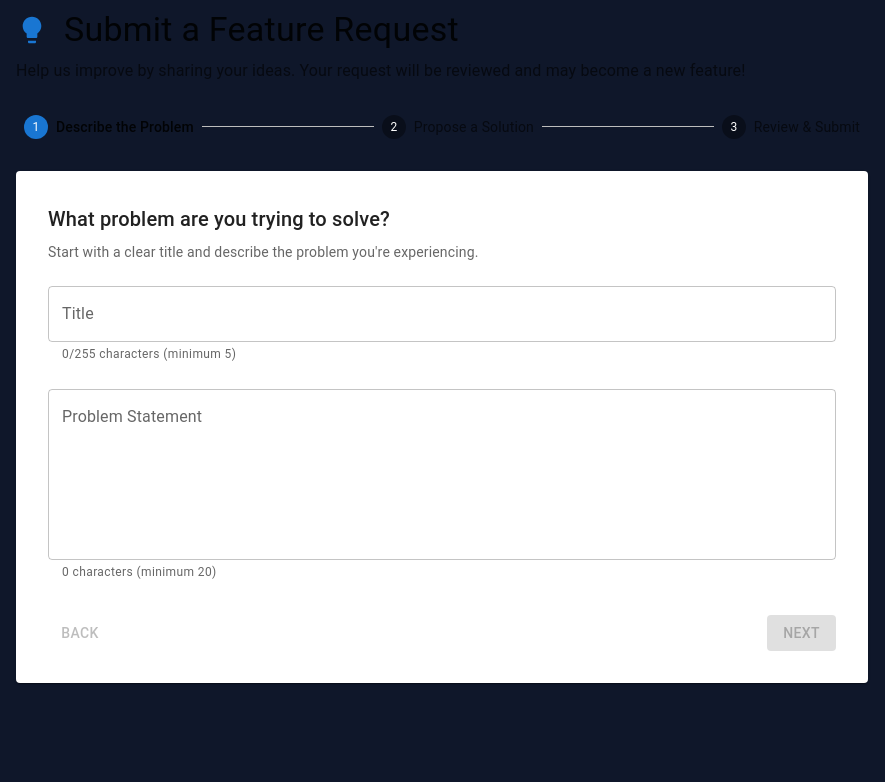
Test case: SubmitFeatureRequest › Step 3 - Review › shows review of entered data
This screenshot has width=885, height=782.
Type "Add dark mode support" into the field labelled "Title" at x=442, y=314, box left=48, top=286, right=836, bottom=342
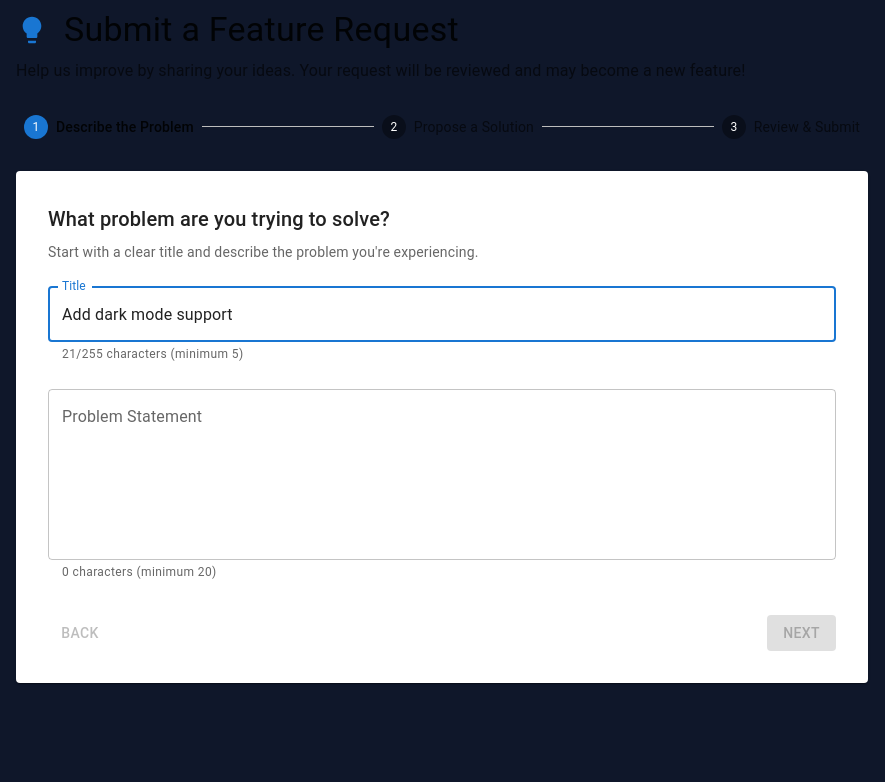
Type "Users are experiencing eye strain when using the application in low-light." into the text box labelled "Problem Statement" at x=442, y=474, box left=62, top=405, right=822, bottom=543
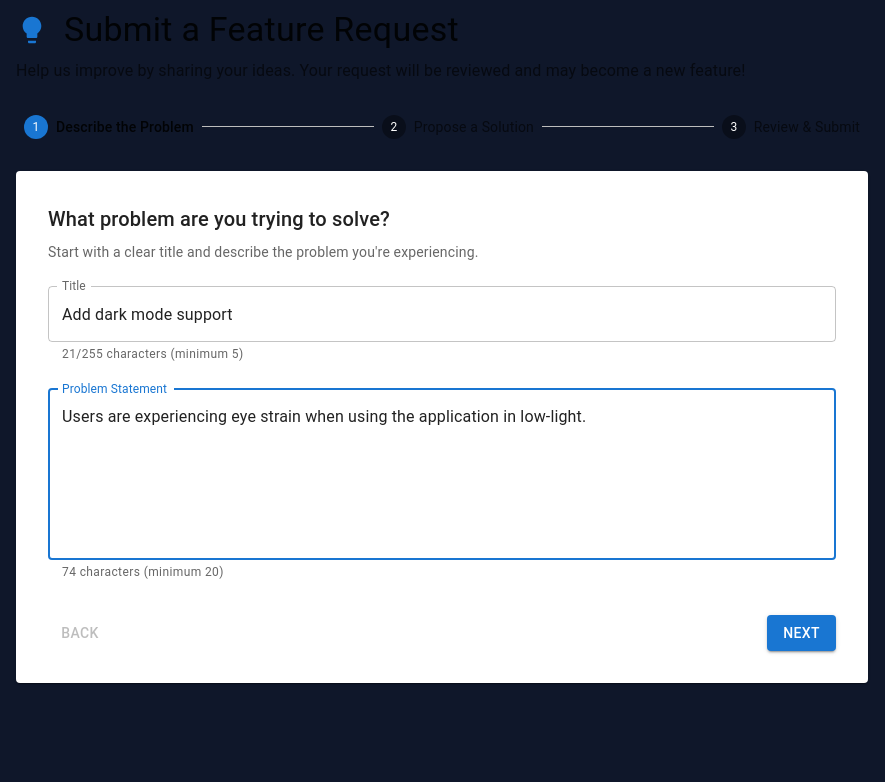
Click the button "Next" at x=802, y=633, box left=767, top=615, right=836, bottom=651
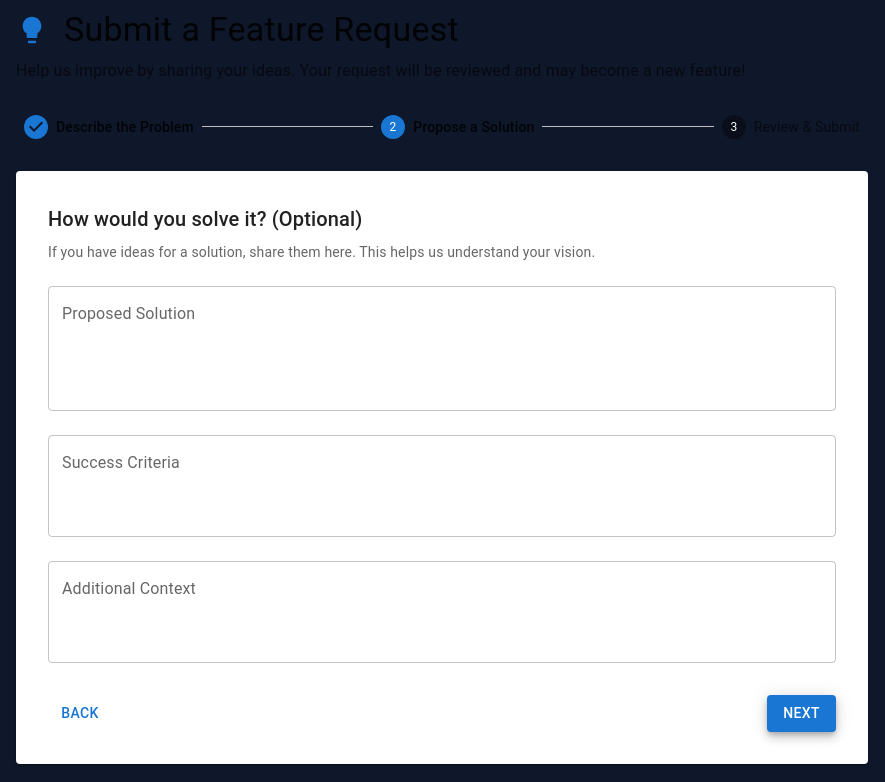
Type "Implement a theme toggle." into the text box labelled "Proposed Solution" at x=442, y=348, box left=62, top=302, right=822, bottom=394
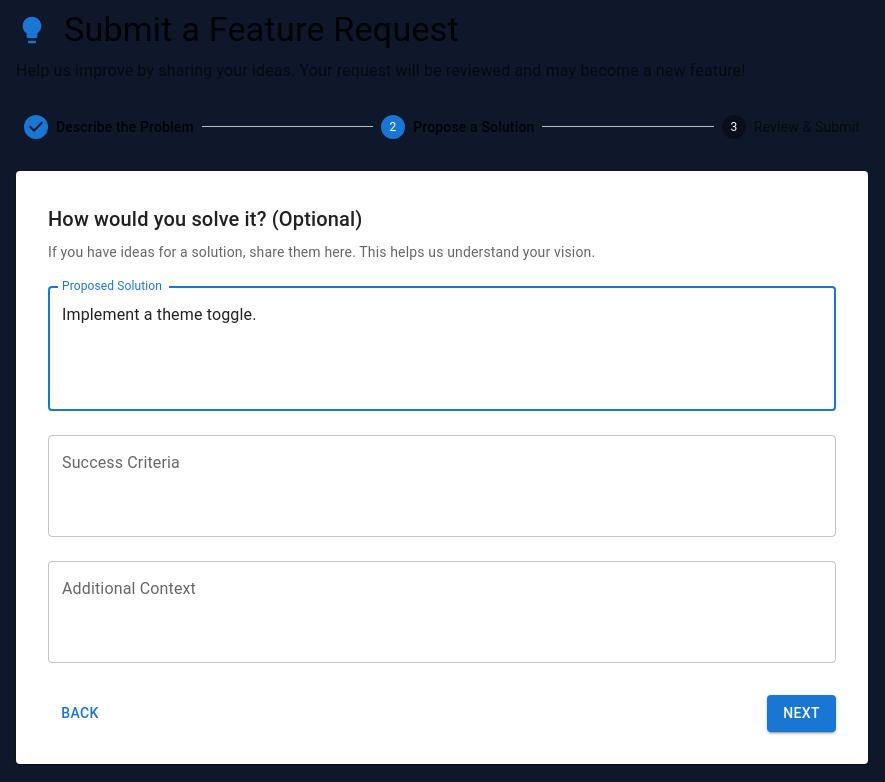
Click the button "Next" at x=802, y=713, box left=767, top=695, right=836, bottom=732
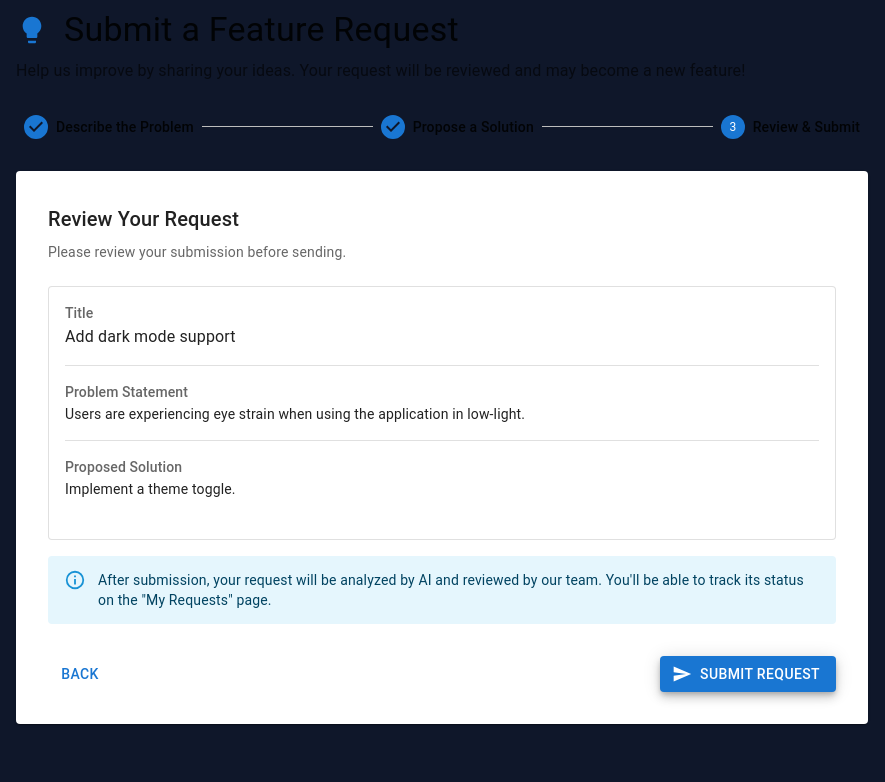
Result: the heading "Review Your Request" is shown at left=48, top=207, right=239, bottom=231
Result: the text "Add dark mode support" is shown at left=65, top=327, right=236, bottom=346
Result: the text "Users are experiencing eye strain" is shown at left=65, top=406, right=525, bottom=422
